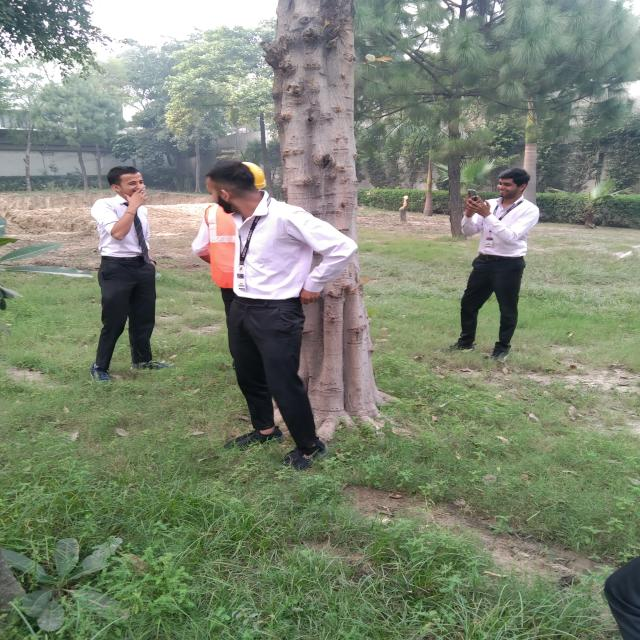unsafe: (216, 162, 327, 472), (80, 161, 164, 377), (454, 161, 529, 369)
